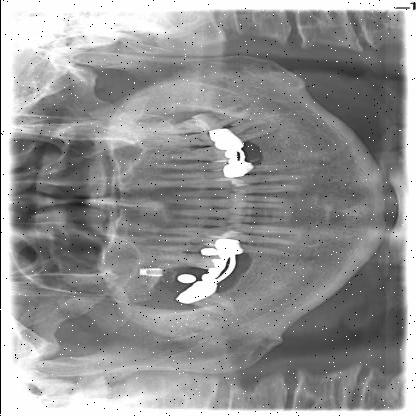Bicon: (132, 265, 168, 279)
